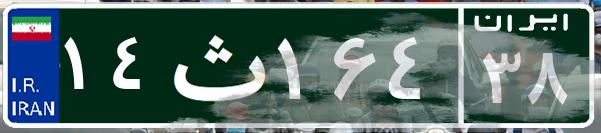1: (273, 28, 330, 110), (57, 26, 110, 107)
3: (475, 38, 525, 113)
4: (385, 28, 445, 110), (110, 28, 158, 105)
6: (330, 28, 385, 110)
8: (525, 38, 570, 115)
ث: (158, 15, 273, 115)
